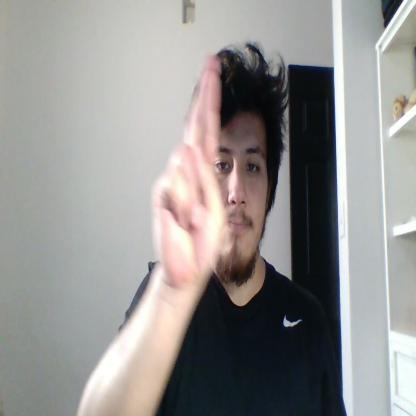R: (151, 56, 227, 289)
